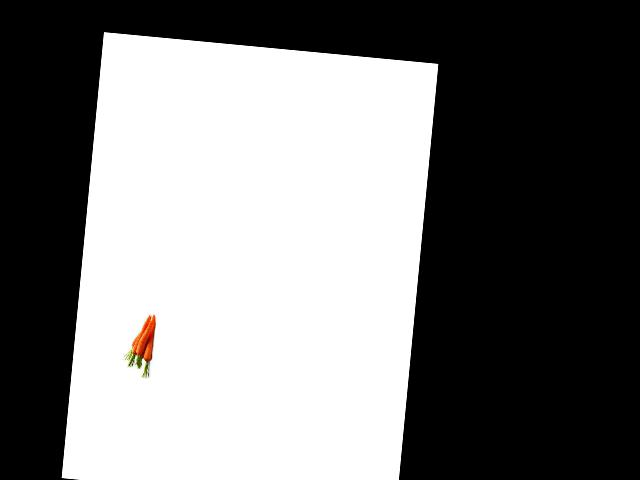carrot: (143, 313, 158, 361)
